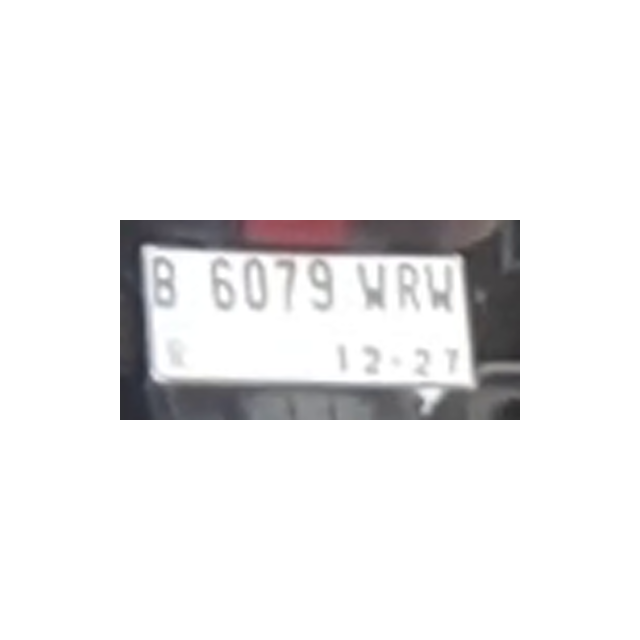contain: (304, 257, 339, 324), (422, 258, 461, 316), (390, 256, 425, 316), (208, 255, 240, 316), (269, 257, 299, 321), (358, 258, 391, 316), (242, 255, 269, 318), (151, 254, 179, 310)
